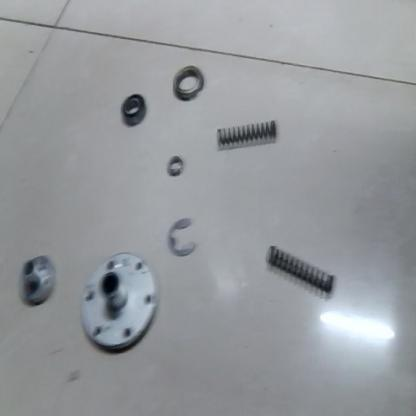FOD: (1, 1, 415, 414), (77, 251, 159, 355), (265, 244, 338, 299), (16, 249, 60, 313), (213, 119, 281, 150), (166, 214, 200, 263), (170, 64, 206, 102), (120, 90, 146, 127), (164, 151, 188, 180)
